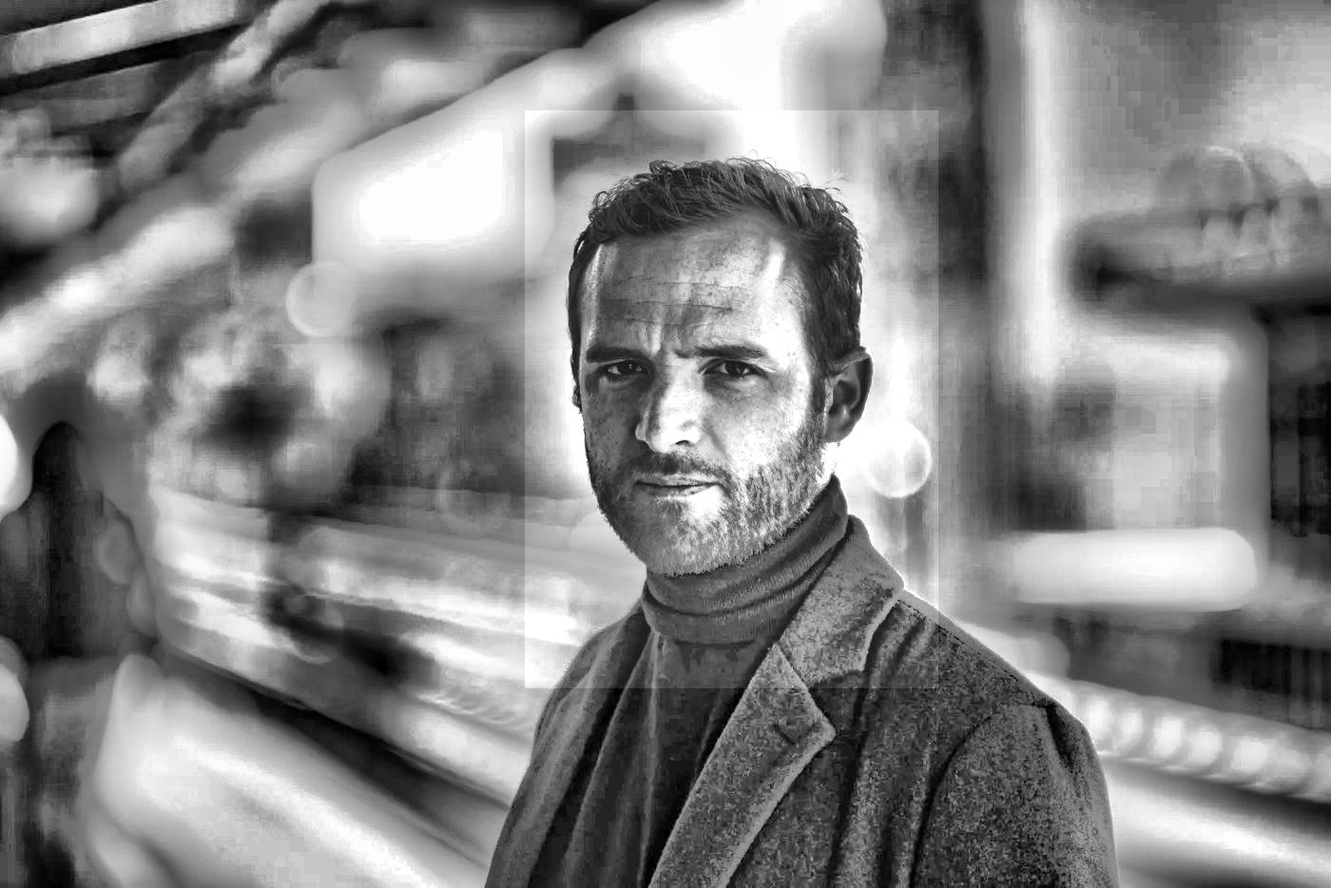sad: (525, 111, 939, 689)
